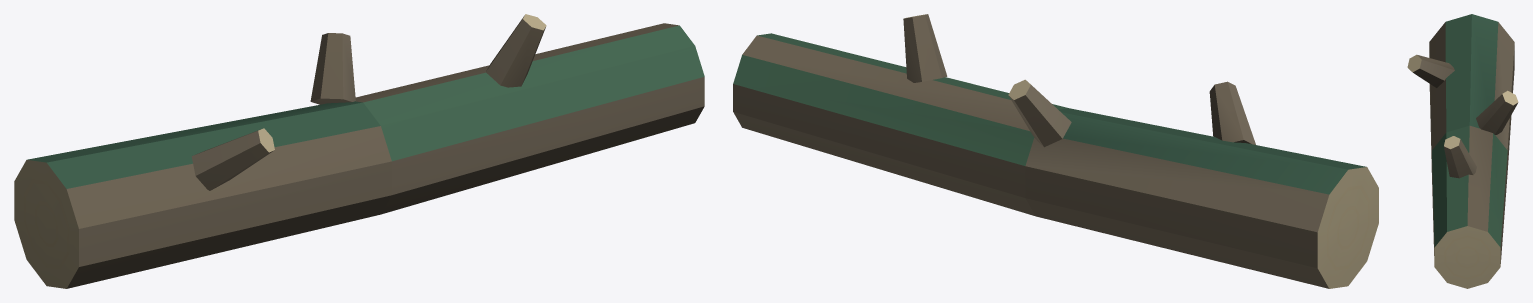
File: prop-log.glb
3 views of the same model, side by side, from view 1: azimuth 30°, elevation 25°; view 2: azimuth 150°, elevation 25°; view 3: azimuth 270°, elevation 25° (orthographic). The views are drawn at different scales.
Parts seen in each view (by area): view 1: prop-log; view 2: prop-log; view 3: prop-log.
Boxes of the visible parts, x1,y1,x2,y2 form: prop-log: (14, 14, 704, 288); prop-log: (733, 14, 1378, 288); prop-log: (1407, 14, 1518, 288).
Bounding box in the file's own units: 2.7 × 0.6806 × 0.6255.
